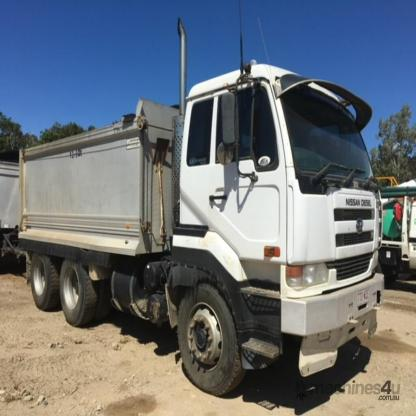dump_truck: (10, 48, 382, 399)
